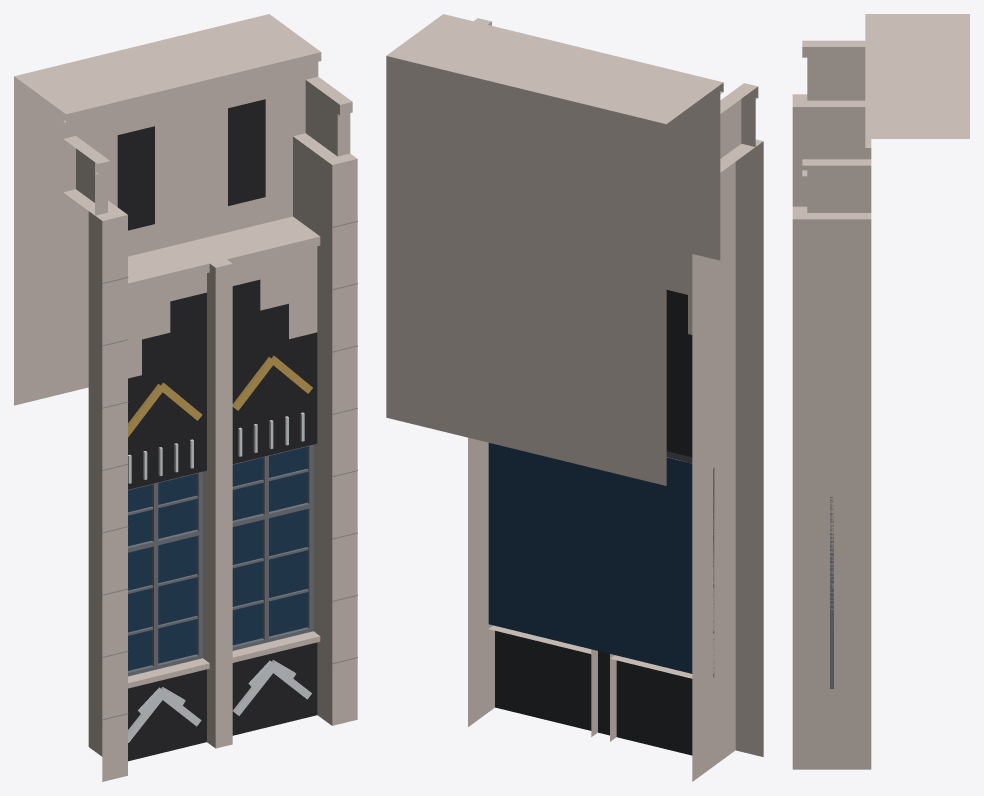
Rendered from top-w1_close.fbx.
3 views of the same model, side by side, from view 1: azimuth 30°, elevation 25°; view 2: azimuth 150°, elevation 25°; view 3: azimuth 270°, elevation 25° (orthographic). The views are drawn at different scales.
Parts seen in each view (by area): view 1: a2011/600/top-w1_close; view 2: a2011/600/top-w1_close; view 3: a2011/600/top-w1_close.
Boxes of the visible parts, x1=… form: a2011/600/top-w1_close: x1=14, y1=14, x2=357, y2=781; a2011/600/top-w1_close: x1=386, y1=14, x2=763, y2=781; a2011/600/top-w1_close: x1=792, y1=14, x2=969, y2=769.
Size of the model in its own units: 3 by 7.2 by 1.8.
